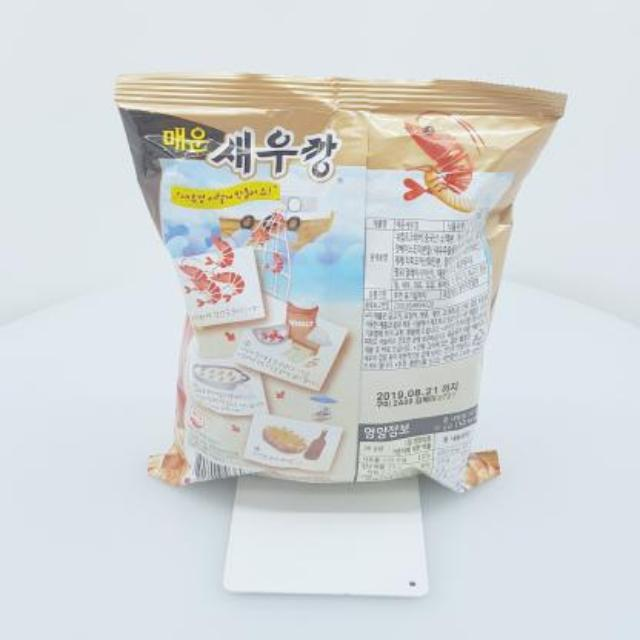snack_bag: (103, 60, 572, 516)
